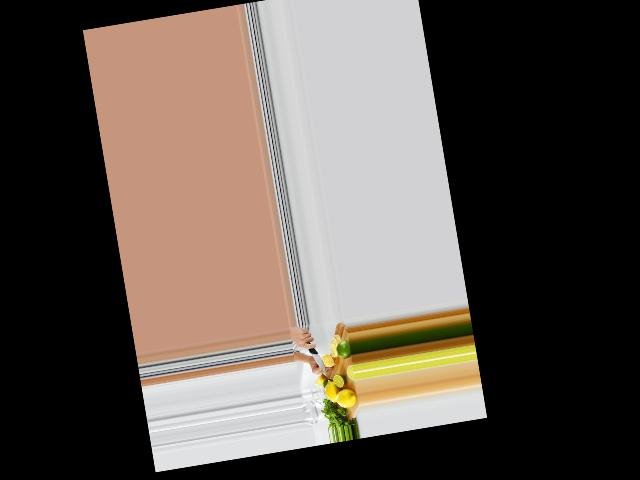lemon: (334, 386, 357, 412)
